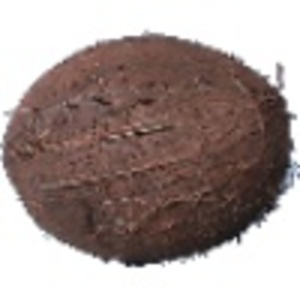coco: (4, 35, 300, 267)
